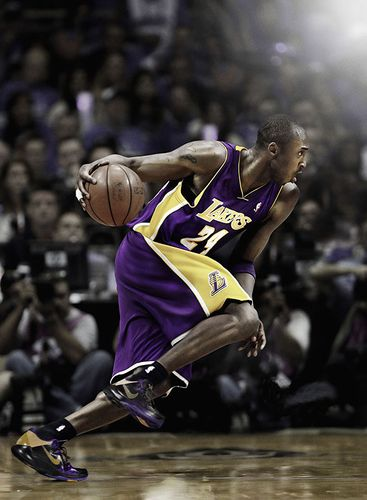ball: (80, 163, 147, 227)
